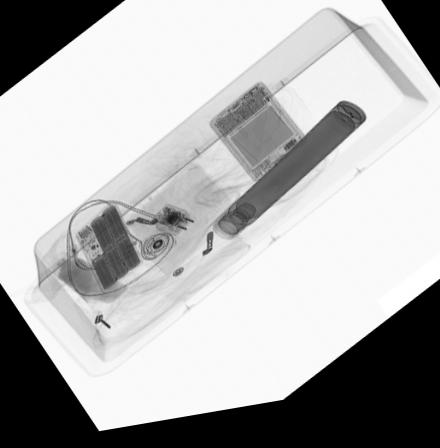Powerbank: (69, 202, 147, 299)
